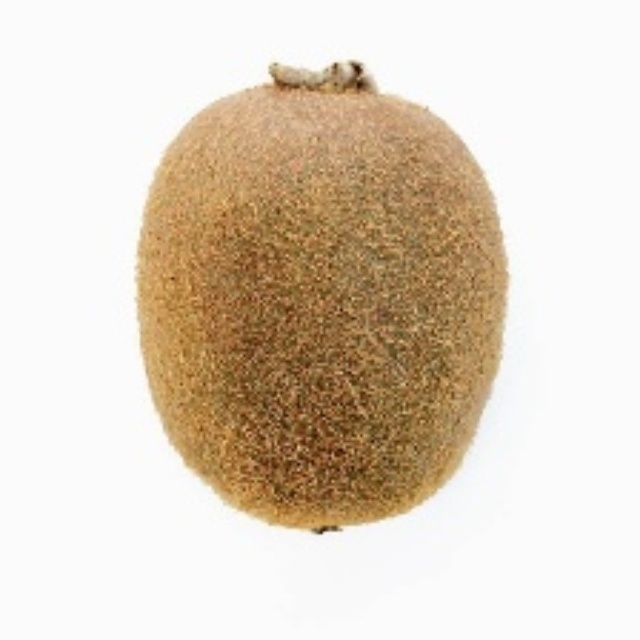kiwi: (135, 68, 518, 539)
